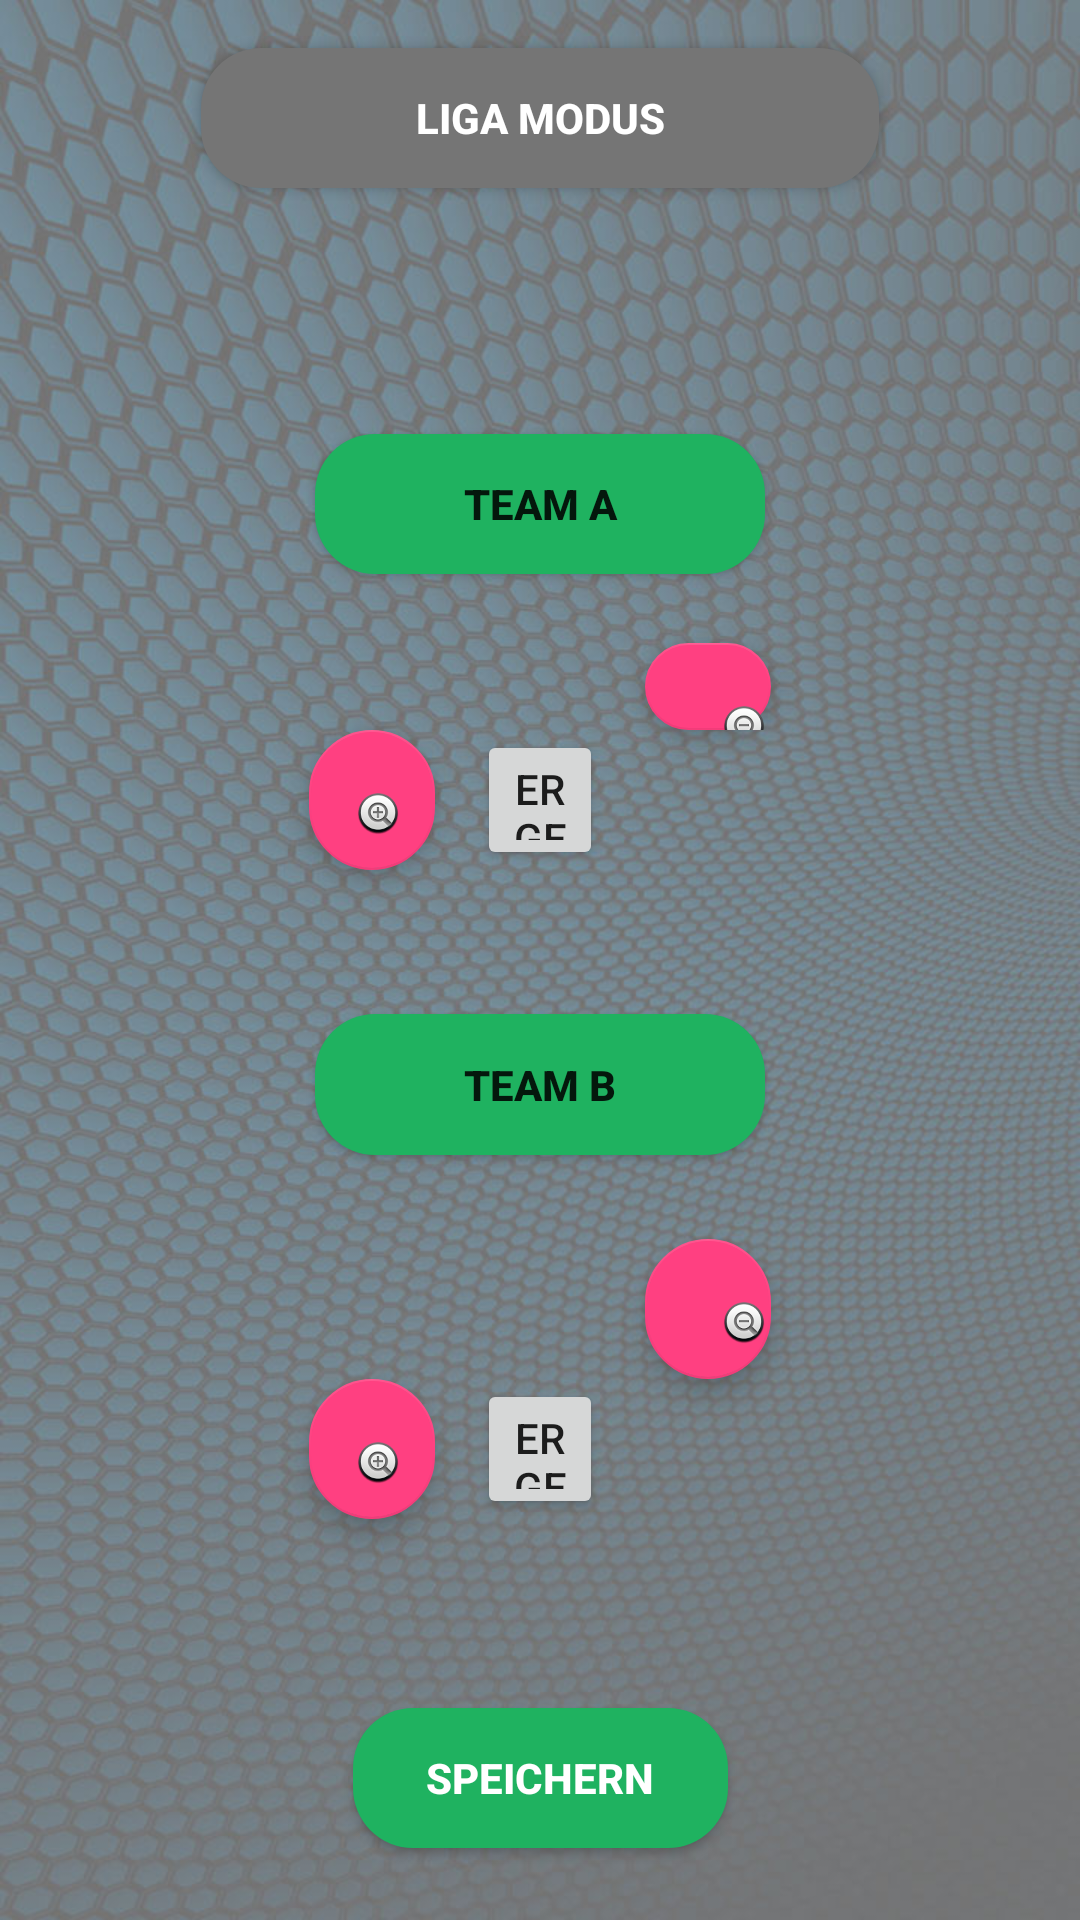

Screen size 1080px×1920px. Icon name, then its center in pixels as point (x, y):
minus: point (708, 686), point (708, 1309)
plus: point (372, 800), point (372, 1449)
